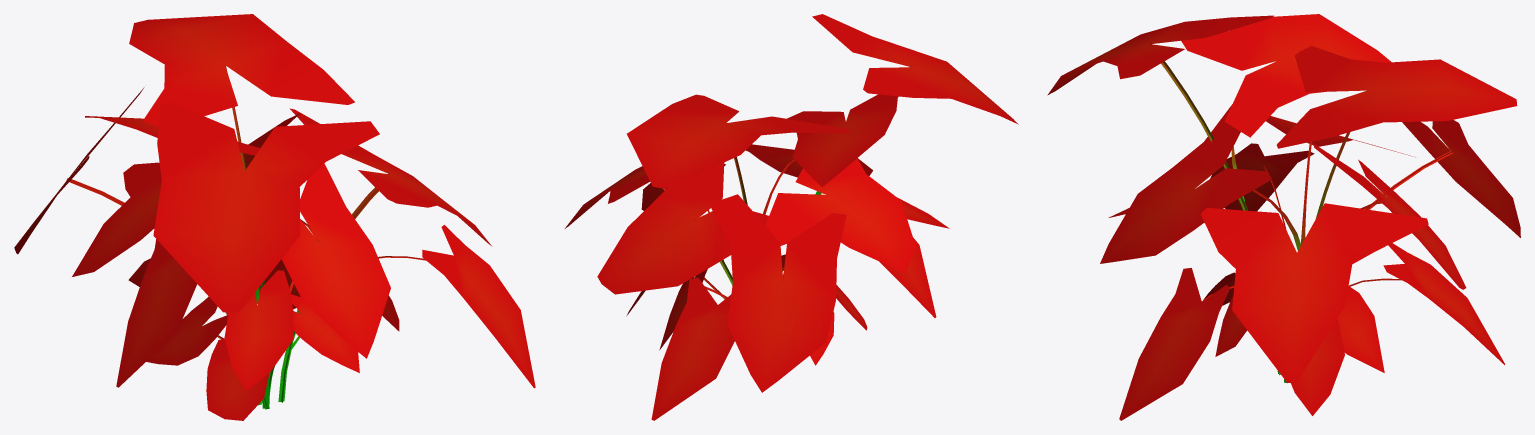
Rendered from Var3_LOD2.fbx.
The picture shows the model from 3 angles, left to right: view 1: azimuth 30°, elevation 25°; view 2: azimuth 150°, elevation 25°; view 3: azimuth 270°, elevation 25°; orthographic projection. The views are drawn at different scales.
Parts seen in each view (by area): view 1: _2a6e_Var3_LOD2; view 2: _2a6e_Var3_LOD2; view 3: _2a6e_Var3_LOD2.
Part boxes in pixels (<box>): _2a6e_Var3_LOD2: <box>14,14,535,420</box>; _2a6e_Var3_LOD2: <box>565,14,1018,420</box>; _2a6e_Var3_LOD2: <box>1047,14,1520,420</box>.
Bounding box in the file's own units: 51.72 × 39.77 × 54.64.
